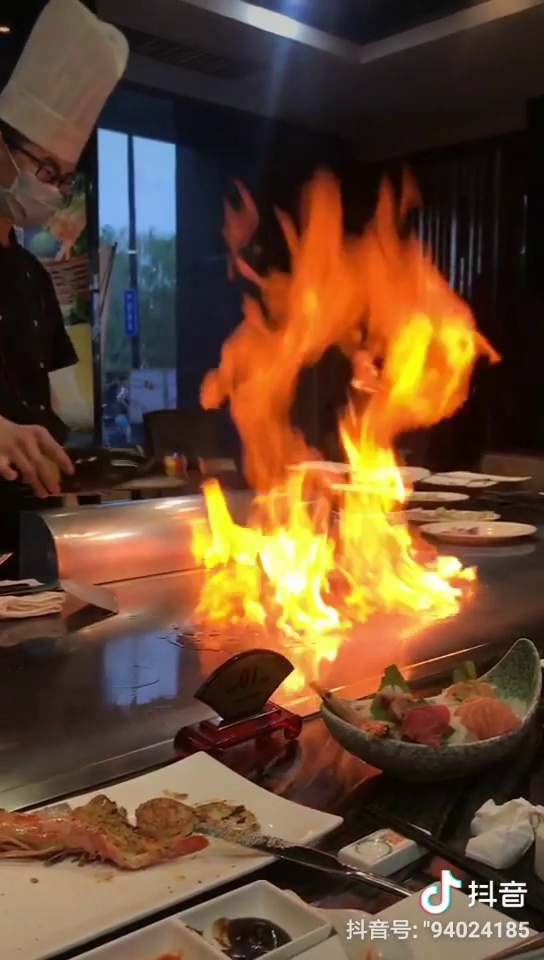fire: (194, 191, 474, 441), (194, 453, 469, 641)
